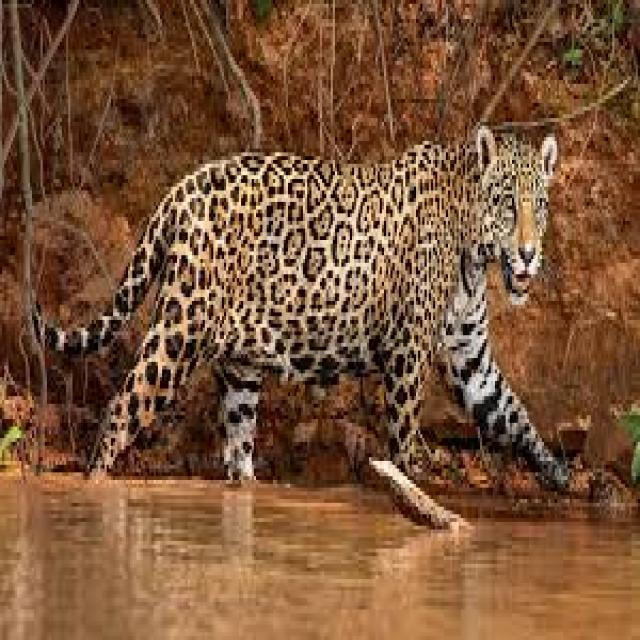Jaguar: (30, 107, 601, 533)
